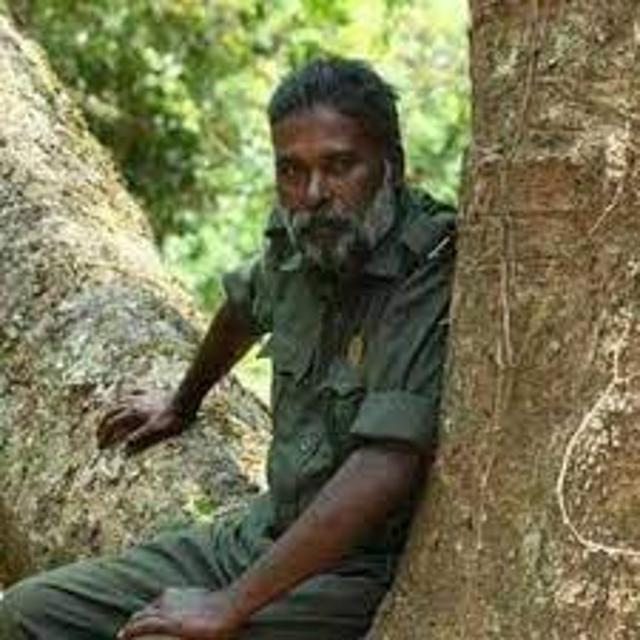poacher: (1, 36, 491, 640)
